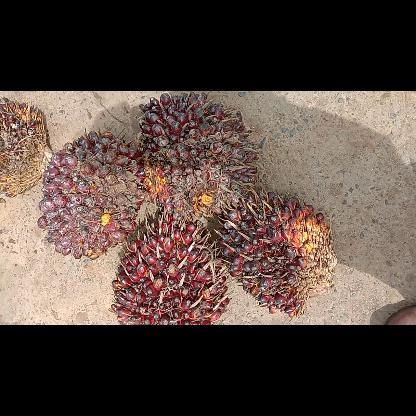Kurang masak: (130, 91, 263, 226), (107, 218, 233, 324)
TBS mentah: (35, 124, 157, 260), (216, 188, 338, 317)
